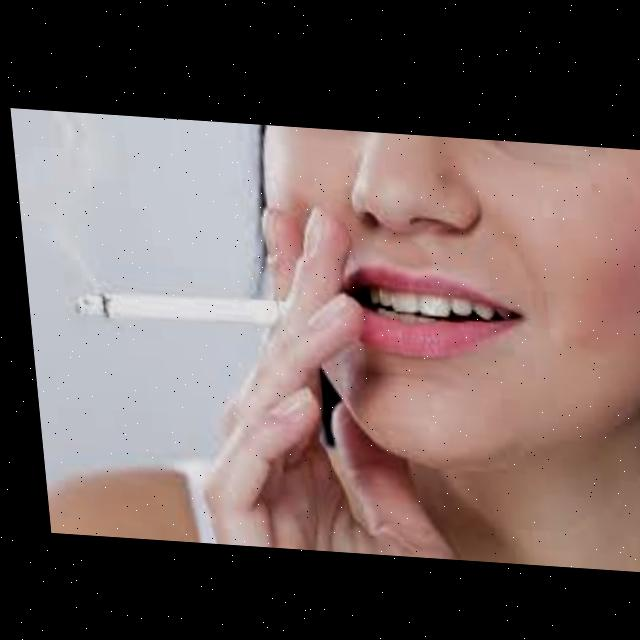cigarette: (66, 285, 283, 327)
